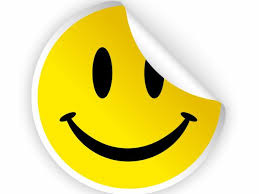feliz: (42, 6, 238, 189), (56, 34, 206, 166)
